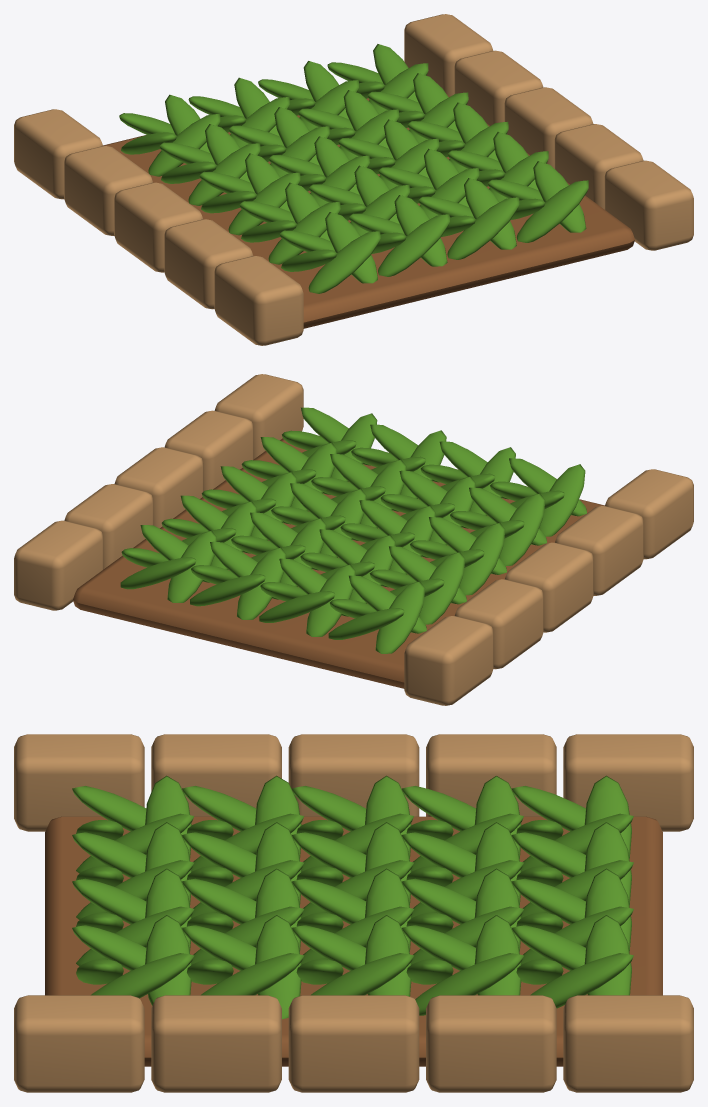
Rendered from NJD-19.glb.
The picture shows the model from 3 angles, top to bottom: view 1: azimuth 30°, elevation 25°; view 2: azimuth 150°, elevation 25°; view 3: azimuth 270°, elevation 25°; orthographic projection. The views are drawn at different scales.
Visible parts, largest first — view 1: tilled soil, bed edging, bed edging.005, bed edging.001, bed edging.002, bed edging.003, bed edging.004, bed edging.006, bed edging.009, bed edging.007, bed edging.008, crop leaf.007 (+64 smaller); view 2: tilled soil, bed edging.004, bed edging.009, bed edging.002, bed edging.003, bed edging.001, bed edging, bed edging.005, bed edging.008, bed edging.006, bed edging.007, crop leaf.066 (+63 smaller); view 3: tilled soil, bed edging.007, bed edging.005, bed edging.009, bed edging.006, bed edging.008, bed edging, bed edging.004, bed edging.002, bed edging.003, bed edging.001, crop leaf.029 (+79 smaller).
Boxes of the visible parts, left/top/right/bottom form: tilled soil: left=103, top=94, right=634, bottom=328; bed edging: left=214, top=256, right=303, bottom=345; bed edging.005: left=604, top=160, right=693, bottom=250; bed edging.001: left=164, top=219, right=253, bottom=309; bed edging.002: left=114, top=182, right=202, bottom=272; bed edging.003: left=64, top=146, right=152, bottom=235; bed edging.004: left=14, top=109, right=102, bottom=199; bed edging.006: left=554, top=124, right=643, bottom=209; bed edging.009: left=404, top=14, right=493, bottom=96; bed edging.007: left=504, top=87, right=593, bottom=168; bed edging.008: left=454, top=50, right=543, bottom=125; crop leaf.007: left=378, top=214, right=449, bottom=276; tilled soil: left=73, top=435, right=604, bottom=688; bed edging.004: left=404, top=616, right=493, bottom=705; bed edging.009: left=14, top=520, right=103, bottom=610; bed edging.002: left=505, top=542, right=593, bottom=632; bed edging.003: left=454, top=579, right=543, bottom=669; bed edging.001: left=555, top=506, right=643, bottom=595; bed edging: left=605, top=469, right=693, bottom=559; bed edging.005: left=214, top=374, right=303, bottom=459; bed edging.008: left=64, top=484, right=153, bottom=569; bed edging.006: left=164, top=410, right=253, bottom=490; bed edging.007: left=114, top=447, right=203, bottom=528; crop leaf.066: left=375, top=581, right=425, bottom=653; tilled soil: left=45, top=816, right=662, bottom=1066; bed edging.007: left=288, top=995, right=419, bottom=1092; bed edging.005: left=14, top=995, right=144, bottom=1092; bed edging.009: left=563, top=995, right=693, bottom=1092; bed edging.006: left=151, top=995, right=281, bottom=1092; bed edging.008: left=426, top=995, right=556, bottom=1092; bed edging: left=14, top=734, right=144, bottom=831; bed edging.004: left=563, top=734, right=693, bottom=831; bed edging.002: left=288, top=734, right=419, bottom=816; bed edging.003: left=426, top=734, right=556, bottom=816; bed edging.001: left=151, top=734, right=281, bottom=816; crop leaf.029: left=255, top=915, right=301, bottom=1019.
Bounding box in the file's own units: 2.03 × 0.2803 × 1.98.
